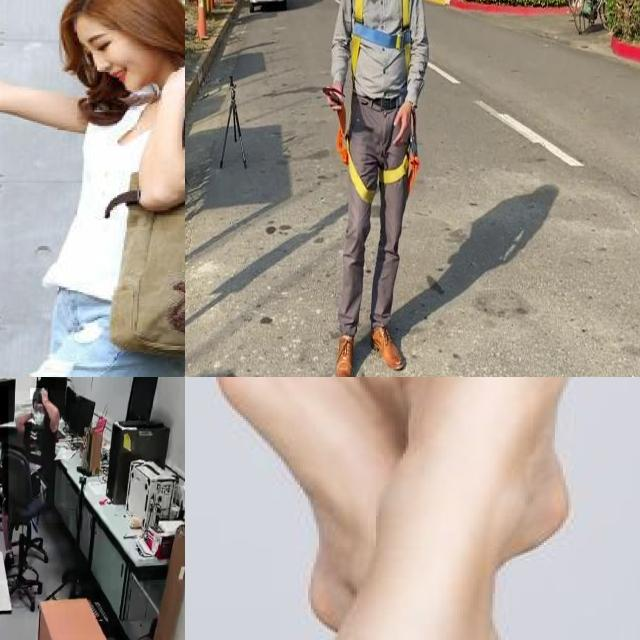Barefoots: (412, 377, 631, 545)
Harness: (324, 87, 421, 205), (351, 0, 413, 78)
face_mask: (32, 400, 44, 429)
face_nomask: (81, 23, 142, 97)
hand_noglove: (166, 61, 185, 98), (38, 386, 50, 405)
head_nohelmet: (53, 0, 170, 27), (30, 388, 48, 400)
person: (0, 0, 185, 377), (8, 390, 66, 524), (0, 386, 8, 516)
